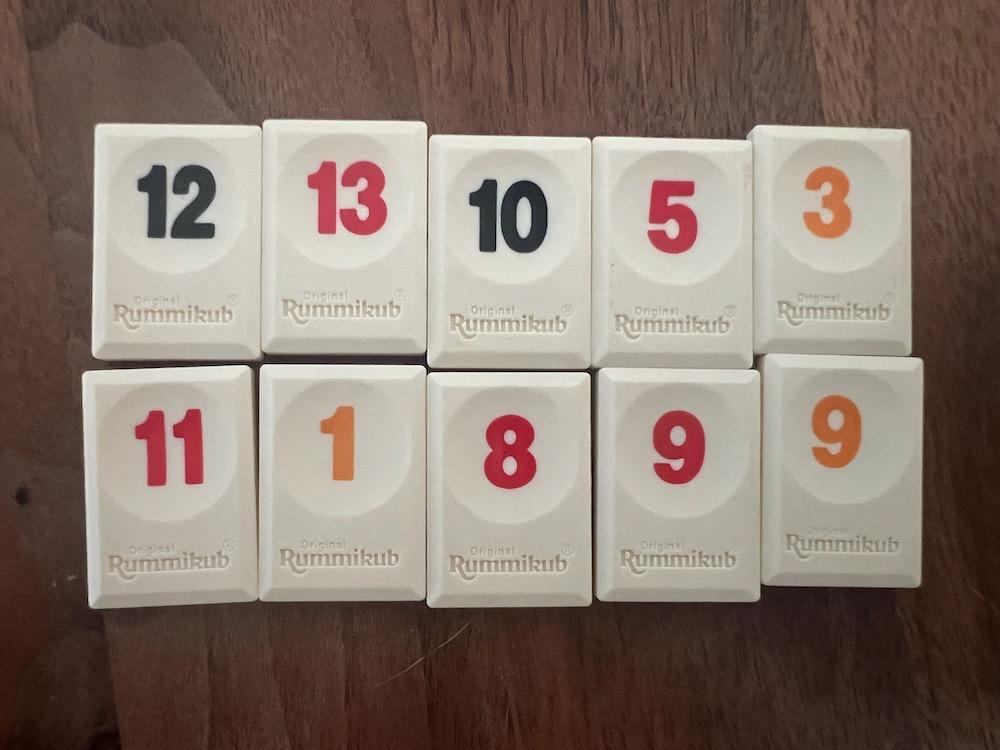black_10: (428, 135, 590, 369)
black_12: (94, 123, 262, 361)
orange_1: (260, 365, 424, 600)
orange_3: (748, 125, 910, 355)
orange_9: (760, 355, 922, 586)
red_11: (82, 367, 258, 609)
red_13: (264, 119, 426, 355)
red_5: (592, 137, 752, 367)
red_8: (428, 376, 590, 605)
red_9: (598, 369, 760, 602)
